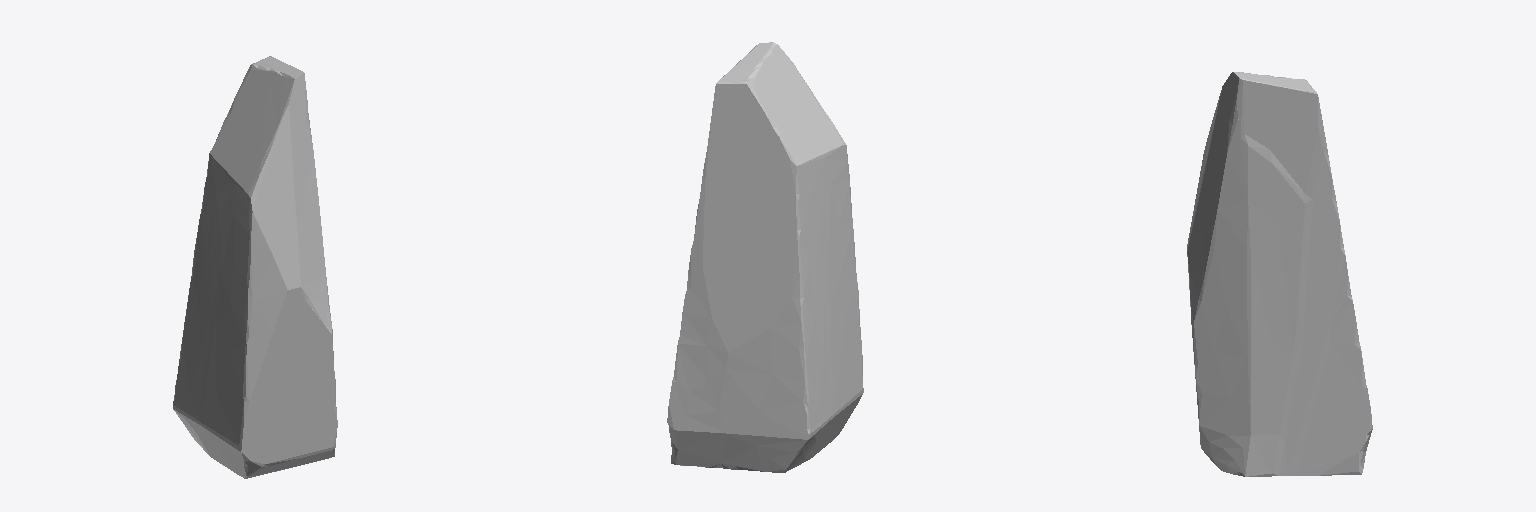
File: sm_rock10.OBJ
3 views of the same model, side by side, from view 1: azimuth 30°, elevation 25°; view 2: azimuth 150°, elevation 25°; view 3: azimuth 270°, elevation 25° (orthographic).
Visible parts, largest first — view 1: ZBrushPolyMesh3D; view 2: ZBrushPolyMesh3D; view 3: ZBrushPolyMesh3D.
Part boxes in pixels (left/top/right/bottom): ZBrushPolyMesh3D: left=173, top=56, right=337, bottom=478; ZBrushPolyMesh3D: left=667, top=42, right=863, bottom=472; ZBrushPolyMesh3D: left=1187, top=72, right=1372, bottom=476.
Bounding box in the file's own units: 1.27 × 3.74 × 1.63.